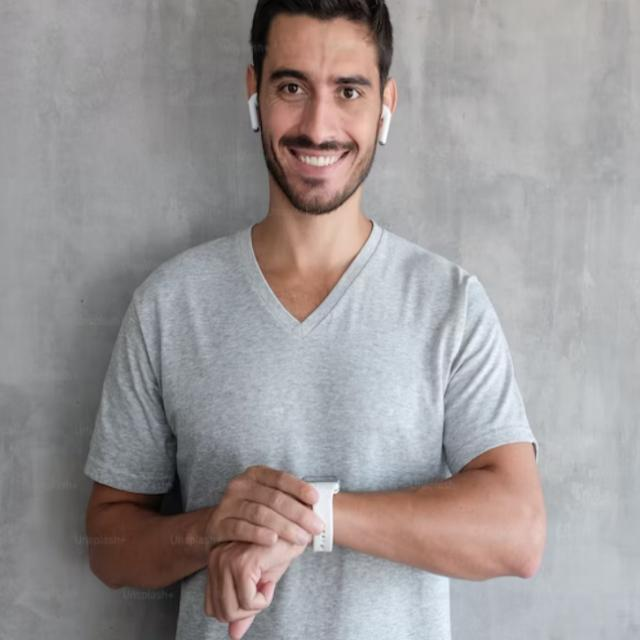Watch: (304, 470, 344, 558)
